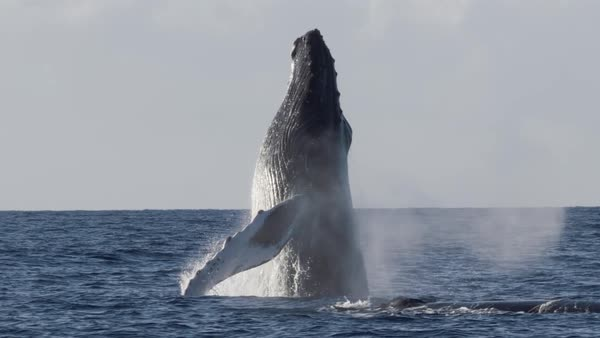humpback: (255, 28, 369, 296)
